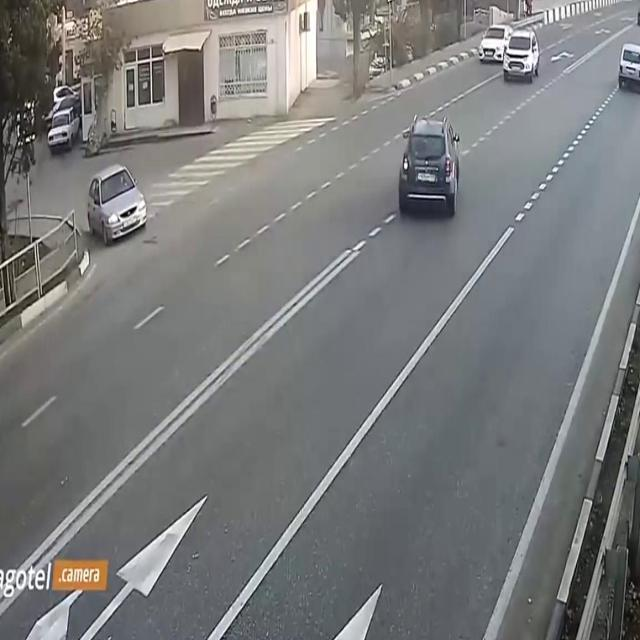non_accident: (473, 19, 543, 92)
